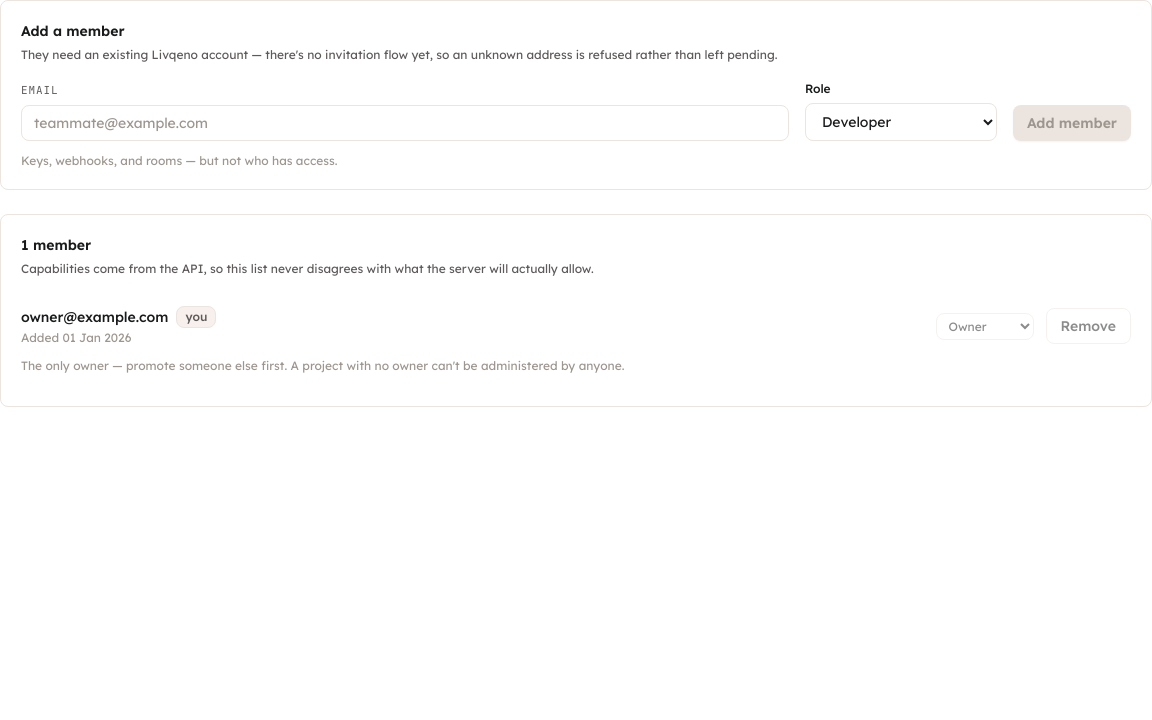
MembersManager › shows both a toast and the inline ErrorState when adding a member fails, and does not add a row
The image size is (1152, 720).
Type "ghost@example.com" into the field labelled "Email". click: (405, 122)
box: [21,104,789,140]
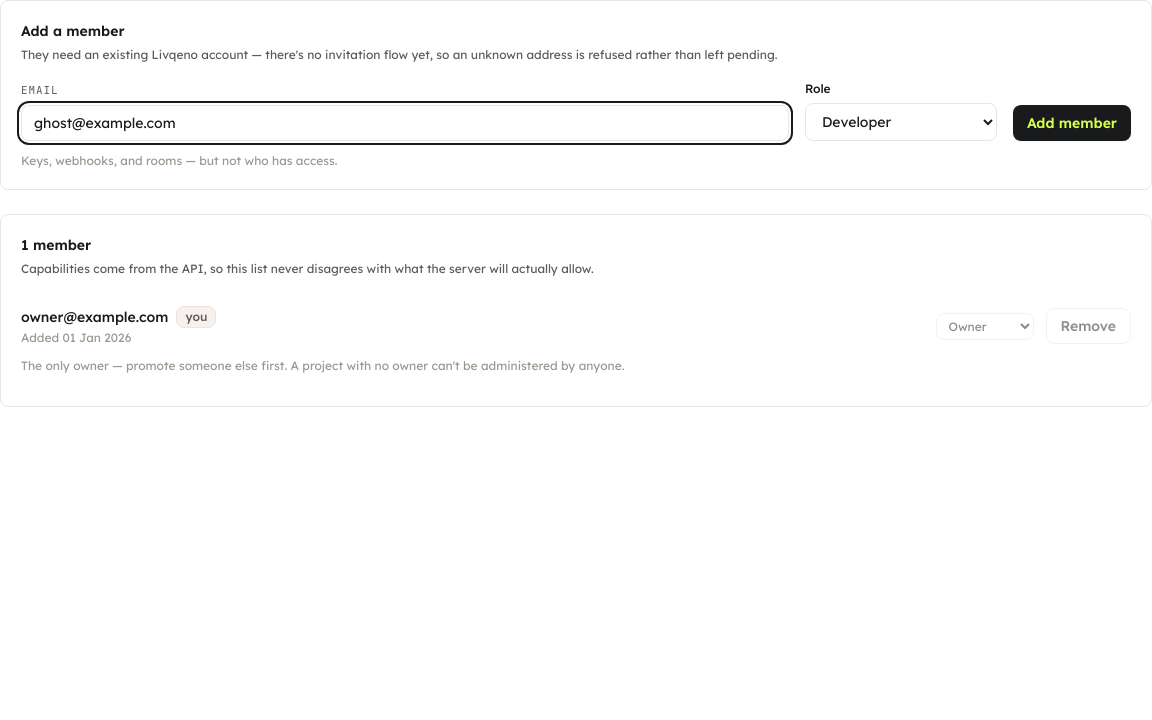
Click the button "Add member". click: (1072, 122)
box: [1013,104,1131,140]
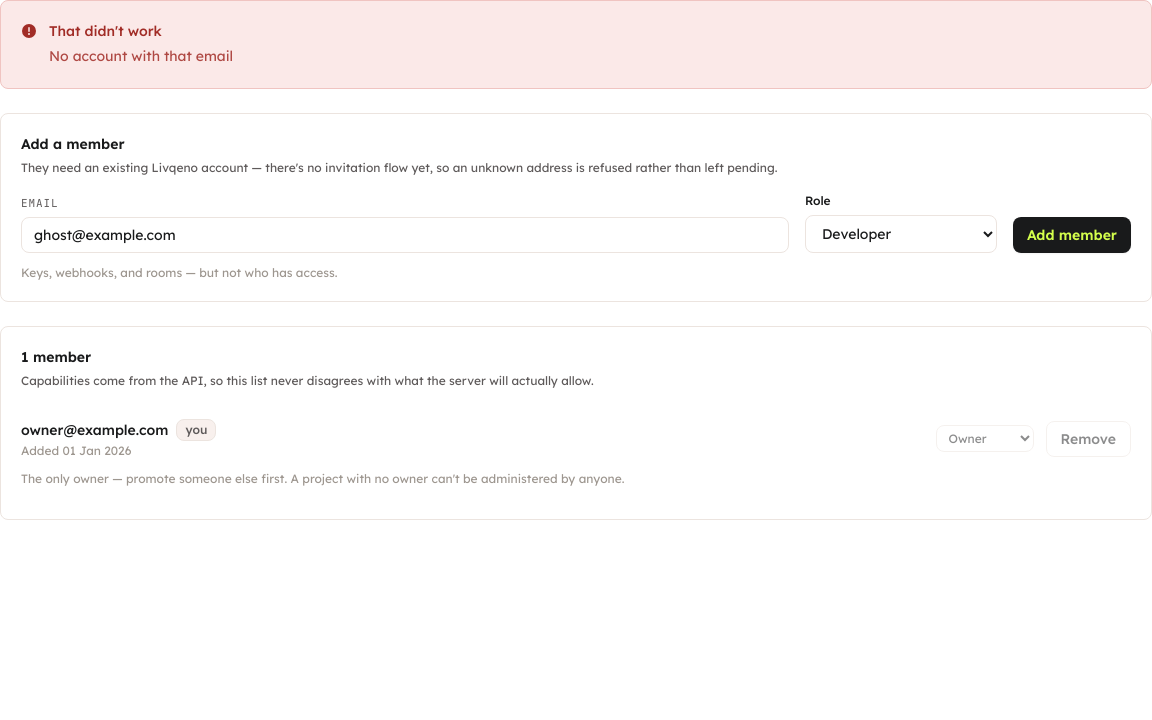
Expected: the text "No account with that email" is shown, [49,47,233,65]
